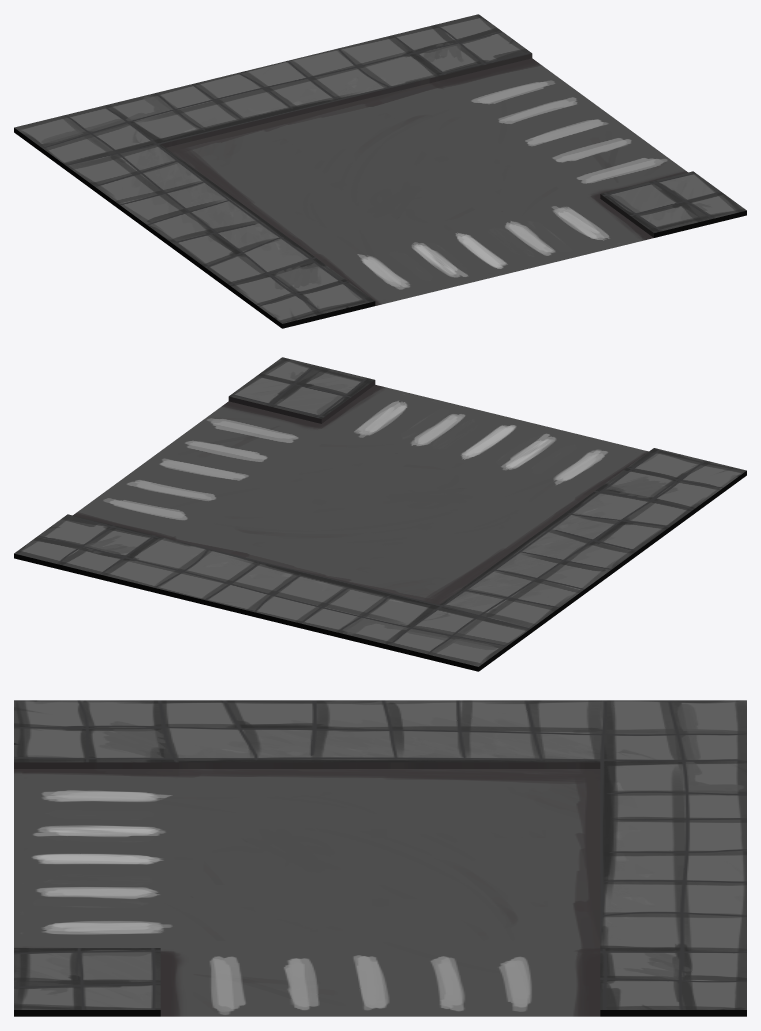
File: ulica-zakret.fbx
The picture shows the model from 3 angles, top to bottom: view 1: azimuth 30°, elevation 25°; view 2: azimuth 150°, elevation 25°; view 3: azimuth 270°, elevation 25°; orthographic projection. The views are drawn at different scales.
Parts seen in each view (by area): view 1: Plane; view 2: Plane; view 3: Plane.
Boxes of the visible parts, x1,y1,x2,y2 form: Plane: (14,14,746,328); Plane: (14,357,746,671); Plane: (14,700,746,1016).
Size of the model in its own units: 1000 by 10 by 1000.
